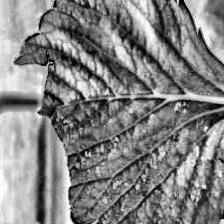Angular Leafspot: (47, 97, 224, 224)
